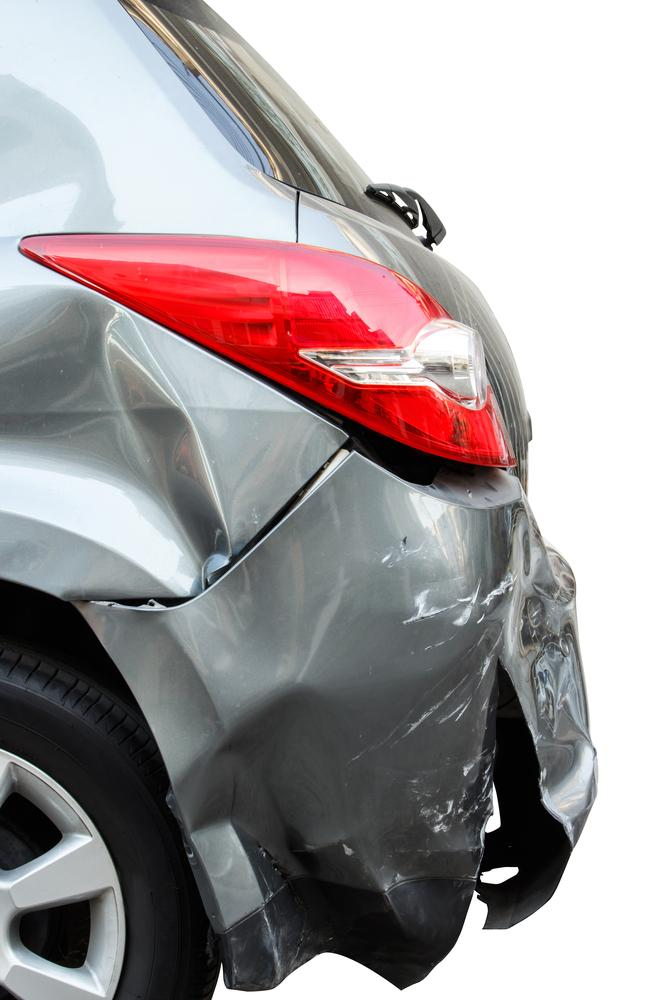crack: (453, 662, 572, 943)
dent: (165, 502, 420, 988), (0, 284, 233, 599), (496, 499, 594, 835)
scratch: (379, 539, 504, 850)
